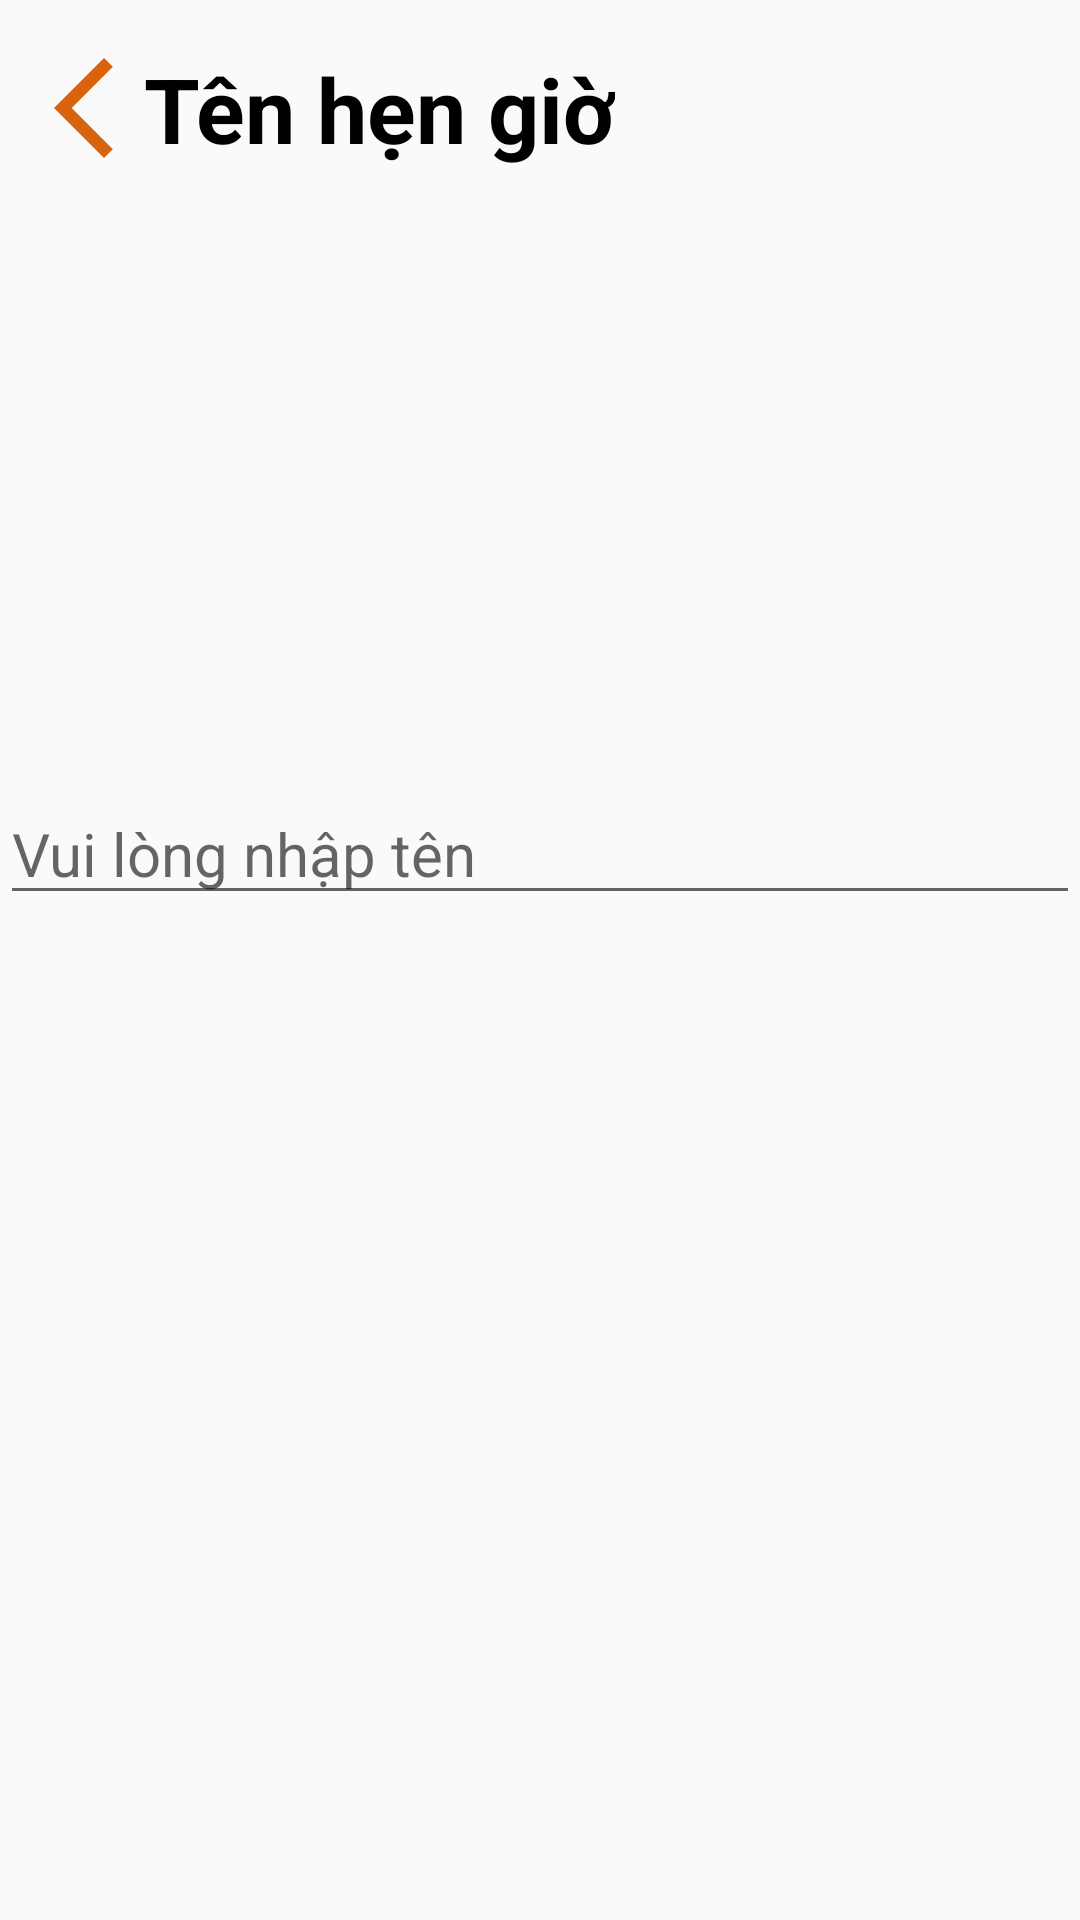

Where to tap for icons on this 1080x1920 app screen, as (x=x, y=y):
arrow back: (x=83, y=108)
